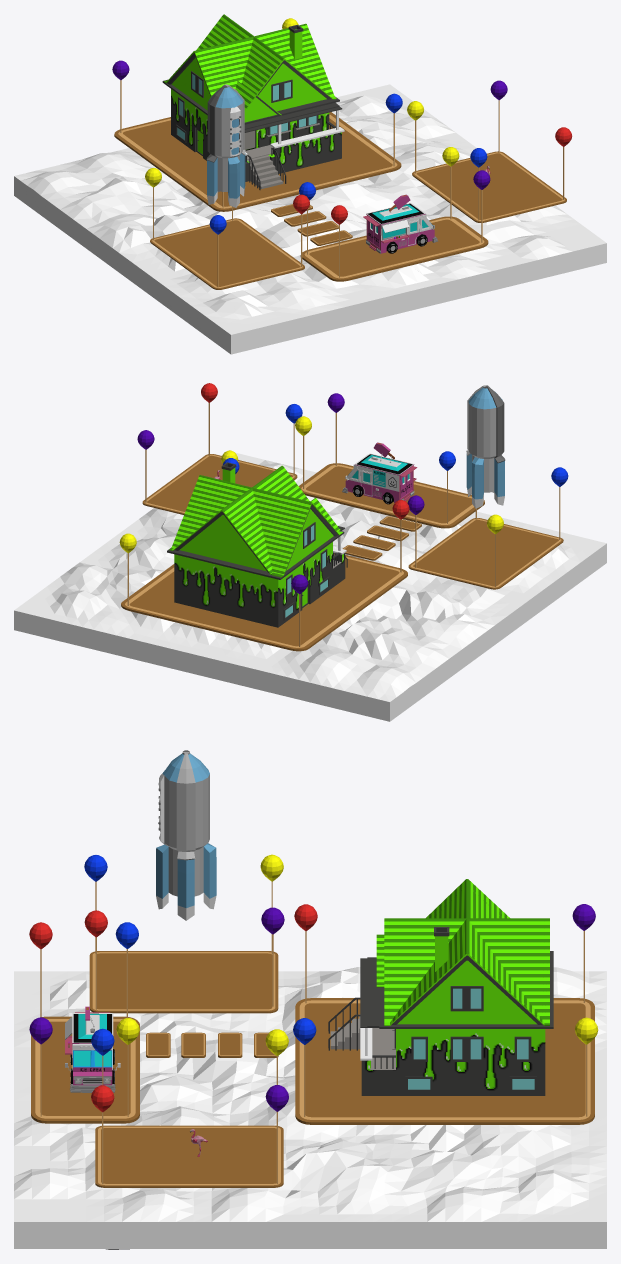
3 views of the same model, one above another, from view 1: azimuth 30°, elevation 25°; view 2: azimuth 150°, elevation 25°; view 3: azimuth 270°, elevation 25° (orthographic). The views are drawn at different scales.
Visible parts, largest first — view 1: Cube.013, Cube.754, OBJRANDOM_ROCKETSHIP, VEHICLES_ICE_CREAM_TRUCK; view 2: Cube.013, Cube.754, OBJRANDOM_ROCKETSHIP, VEHICLES_ICE_CREAM_TRUCK; view 3: Cube.013, Cube.754, OBJRANDOM_ROCKETSHIP, VEHICLES_ICE_CREAM_TRUCK.
Part boxes in pixels (x1,y1,x2,y2): Cube.013: [14, 18, 606, 354]; Cube.754: [162, 14, 344, 190]; OBJRANDOM_ROCKETSHIP: [206, 84, 245, 207]; VEHICLES_ICE_CREAM_TRUCK: [363, 194, 438, 253]; Cube.013: [14, 383, 606, 721]; Cube.754: [167, 462, 347, 627]; OBJRANDOM_ROCKETSHIP: [466, 385, 505, 508]; VEHICLES_ICE_CREAM_TRUCK: [342, 442, 417, 504]; Cube.013: [14, 854, 606, 1248]; Cube.754: [328, 879, 553, 1095]; OBJRANDOM_ROCKETSHIP: [156, 750, 216, 920]; VEHICLES_ICE_CREAM_TRUCK: [65, 1006, 120, 1092].
Size of the model in its own units: 4000 by 2175 by 4000.
42 materials, 2 textured.
